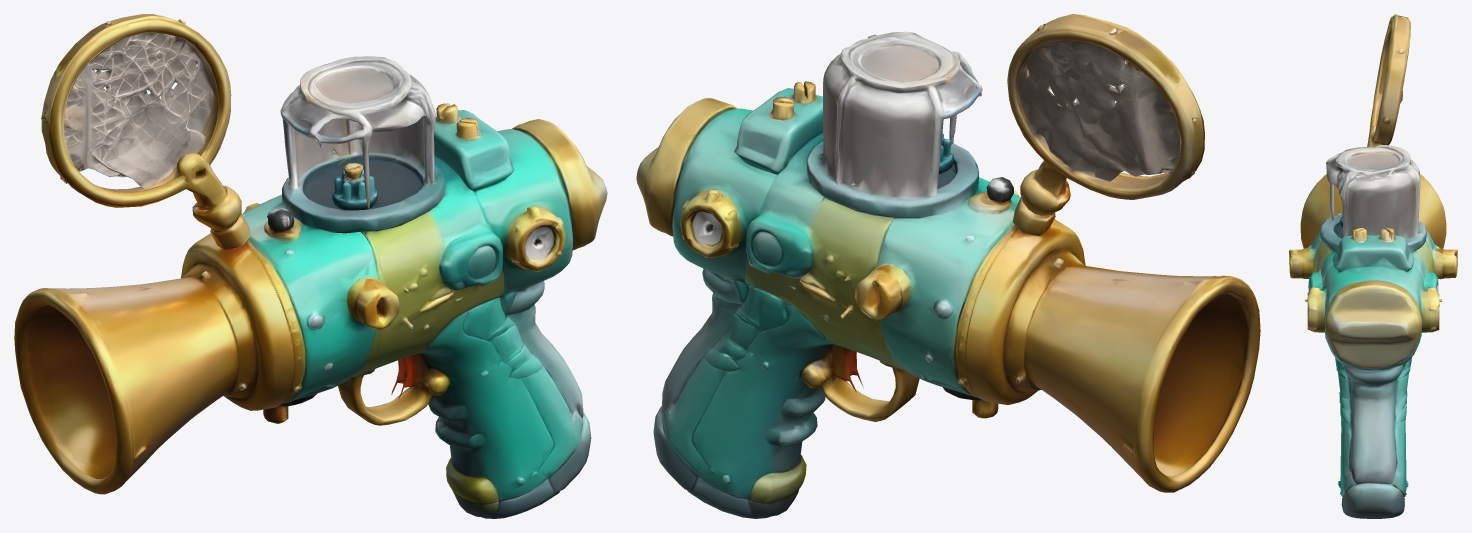
Rendered from netgun.glb.
3 views of the same model, side by side, from view 1: azimuth 30°, elevation 25°; view 2: azimuth 150°, elevation 25°; view 3: azimuth 270°, elevation 25° (orthographic). The views are drawn at different scales.
Parts seen in each view (by area): view 1: tripo_node_da900008-2027-4fad-b060-902084e945b9; view 2: tripo_node_da900008-2027-4fad-b060-902084e945b9; view 3: tripo_node_da900008-2027-4fad-b060-902084e945b9.
Part boxes in pixels (bbox=[...]): tripo_node_da900008-2027-4fad-b060-902084e945b9: bbox=[14, 14, 607, 518]; tripo_node_da900008-2027-4fad-b060-902084e945b9: bbox=[636, 14, 1260, 518]; tripo_node_da900008-2027-4fad-b060-902084e945b9: bbox=[1289, 14, 1457, 518].
Bounding box in the file's own units: 0.9828 × 1 × 0.4045.
1 material, 1 textured.
